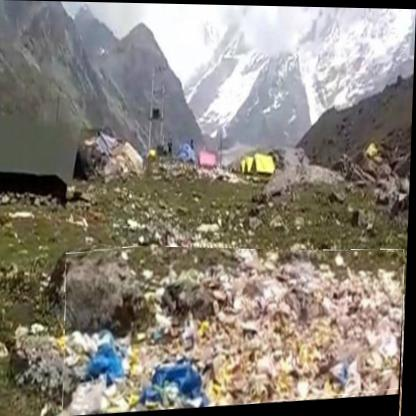Garbage: (65, 245, 409, 416)
